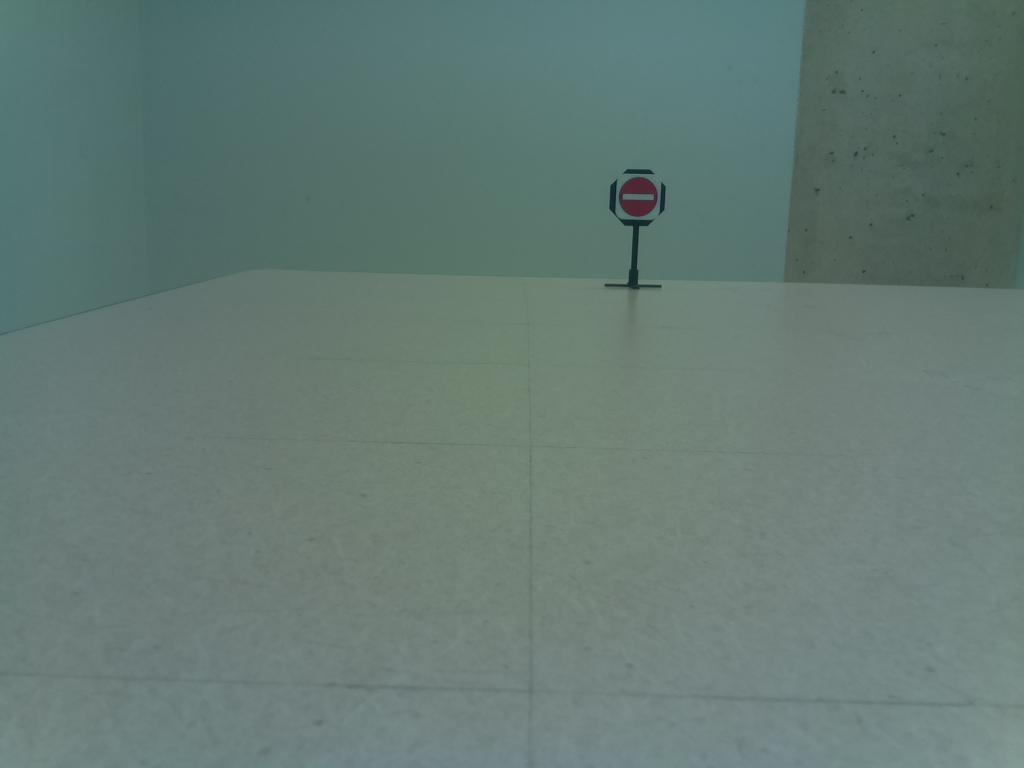sign_noentry: (605, 164, 673, 231)
